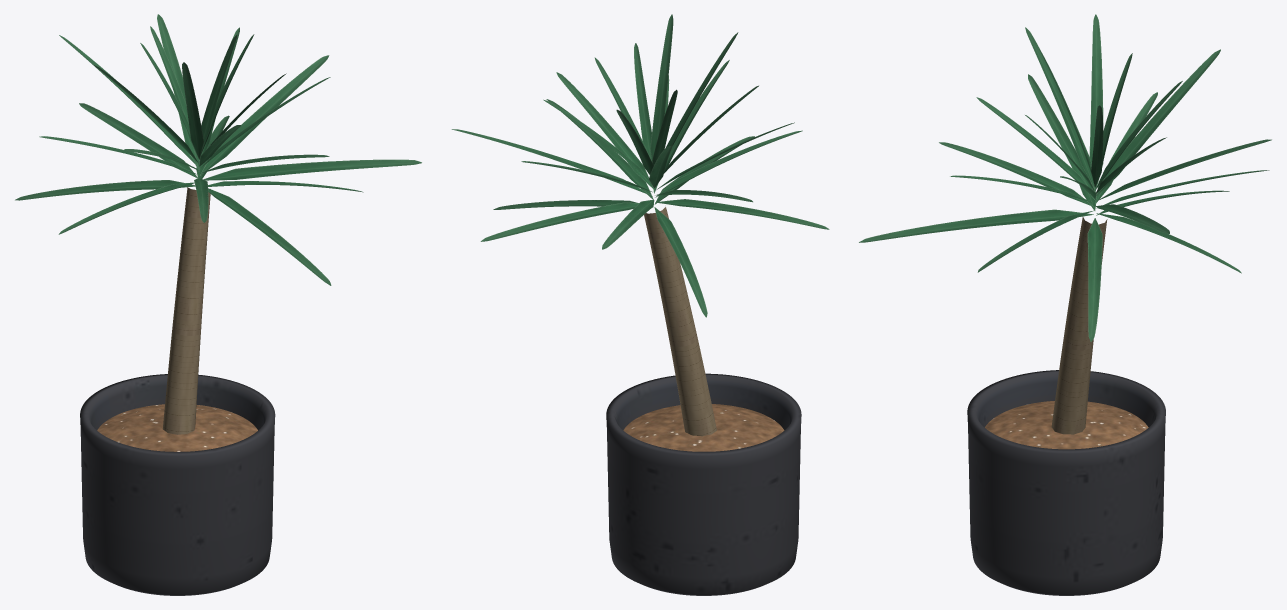
File: yucca.glb
The picture shows the model from 3 angles, left to right: view 1: azimuth 30°, elevation 25°; view 2: azimuth 150°, elevation 25°; view 3: azimuth 270°, elevation 25°; orthographic projection.
Visible parts, largest first — view 1: piece-0, piece-26, piece-1, piece-7, piece-10, piece-3, piece-4, piece-8, piece-22, piece-13, piece-25, piece-6 (+5 smaller); view 2: piece-0, piece-26, piece-1, piece-25, piece-5, piece-15, piece-6, piece-3, piece-20, piece-7, piece-10, piece-9 (+7 smaller); view 3: piece-0, piece-26, piece-1, piece-4, piece-16, piece-2, piece-19, piece-22, piece-14, piece-9, piece-13, piece-17 (+7 smaller).
Part boxes in pixels (box(x1,y1,x2,y2)): piece-0: box(80, 374, 275, 595); piece-26: box(162, 187, 210, 434); piece-1: box(97, 404, 257, 451); piece-7: box(203, 159, 421, 180); piece-10: box(200, 55, 329, 175); piece-3: box(15, 180, 195, 200); piece-4: box(208, 188, 331, 285); piece-8: box(79, 103, 197, 178); piece-22: box(182, 62, 203, 159); piece-13: box(157, 14, 199, 171); piece-25: box(201, 35, 236, 147); piece-6: box(58, 182, 194, 234); piece-0: box(606, 373, 801, 595); piece-26: box(644, 207, 716, 436); piece-1: box(623, 404, 784, 451); piece-25: box(650, 14, 673, 161); piece-5: box(480, 202, 638, 241); piece-15: box(556, 72, 653, 189); piece-6: box(655, 199, 829, 229); piece-3: box(654, 207, 707, 317); piece-20: box(634, 43, 651, 161); piece-7: box(546, 99, 653, 199); piece-10: box(451, 129, 652, 196); piece-9: box(655, 130, 802, 197); piece-0: box(967, 370, 1165, 595); piece-26: box(1051, 217, 1107, 434); piece-1: box(985, 401, 1148, 449); piece-4: box(859, 209, 1093, 242); piece-16: box(1096, 49, 1220, 196); piece-2: box(1087, 218, 1102, 341); piece-19: box(1089, 14, 1103, 192); piece-22: box(1025, 27, 1094, 188); piece-14: box(1028, 74, 1094, 199); piece-9: box(939, 142, 1094, 207); piece-13: box(1096, 139, 1271, 201); piece-17: box(976, 97, 1087, 185).
Bounding box in the file's own units: 0.3094 × 0.4774 × 0.3356.
4 materials, 4 textured.
